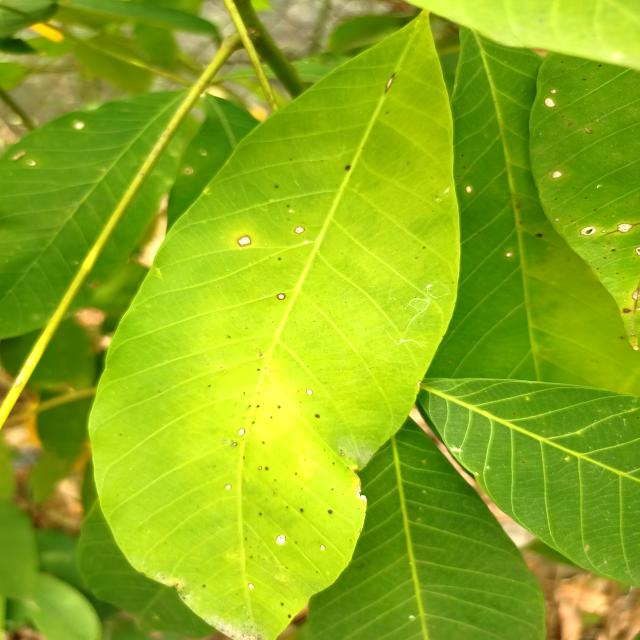Colletotrichum: (579, 226, 595, 237), (237, 236, 252, 247), (618, 224, 632, 234), (544, 98, 555, 108), (294, 227, 305, 234), (276, 293, 286, 300), (238, 428, 246, 435), (306, 388, 313, 395), (623, 308, 631, 314), (248, 583, 255, 589), (550, 89, 557, 95), (320, 544, 326, 549), (505, 252, 511, 257), (315, 414, 320, 418), (328, 509, 332, 514), (258, 466, 262, 470), (233, 442, 237, 446), (300, 508, 304, 512), (555, 218, 559, 222), (456, 176, 460, 180), (611, 249, 616, 252), (265, 467, 269, 470), (602, 230, 606, 232)
